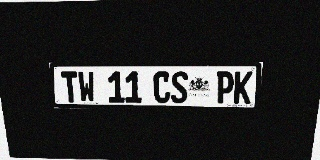1: (107, 71, 125, 103), (124, 71, 142, 103)
C: (153, 71, 170, 103)
K: (233, 71, 253, 104)
P: (215, 71, 234, 104)
S: (171, 71, 188, 103)
T: (61, 71, 79, 102)
W: (77, 71, 96, 102)
